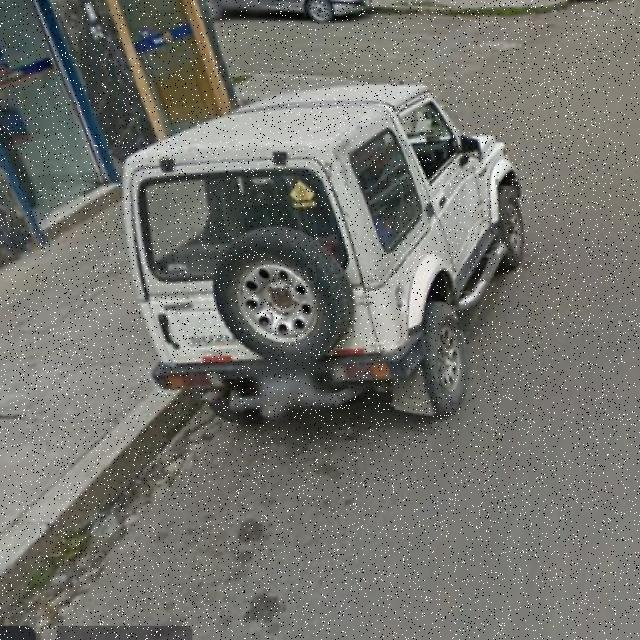cars: (124, 82, 523, 422)
